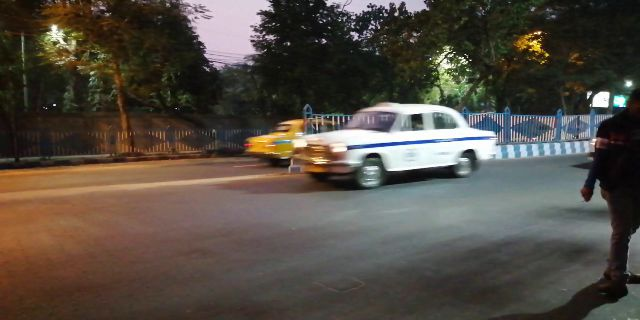Car: (287, 100, 506, 184)
